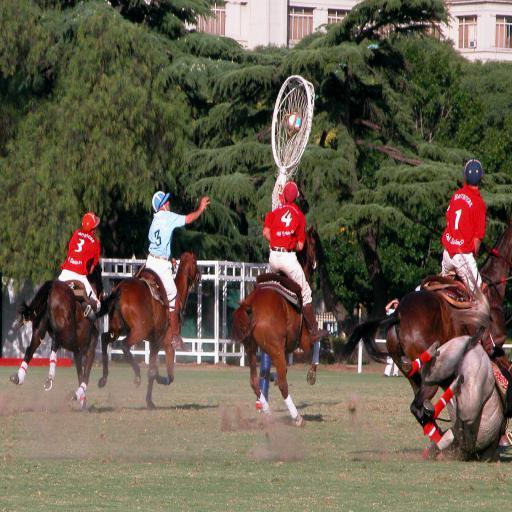horse: (337, 222, 512, 462), (398, 241, 512, 465), (230, 226, 324, 431), (96, 252, 202, 411), (8, 263, 106, 412)
